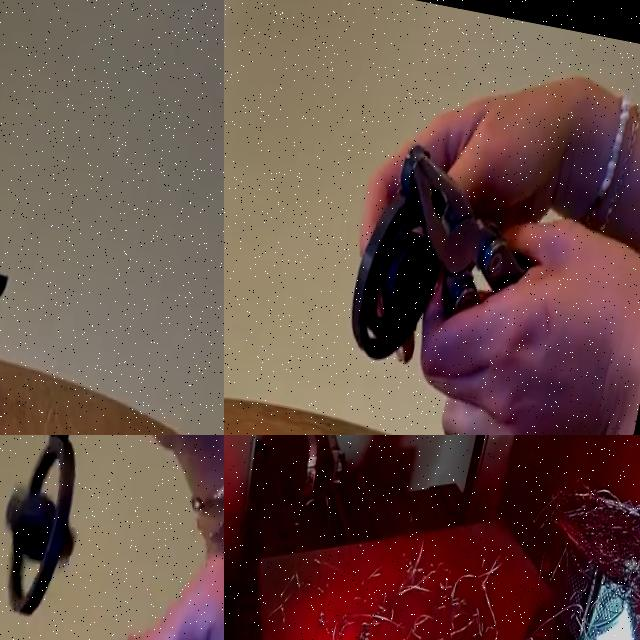spaghetti: (245, 503, 520, 640), (523, 481, 640, 640)
